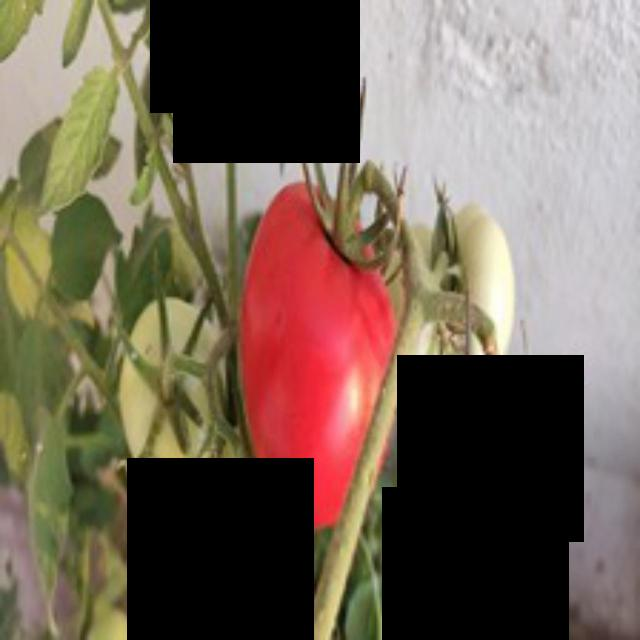tomato: (231, 166, 407, 534)
